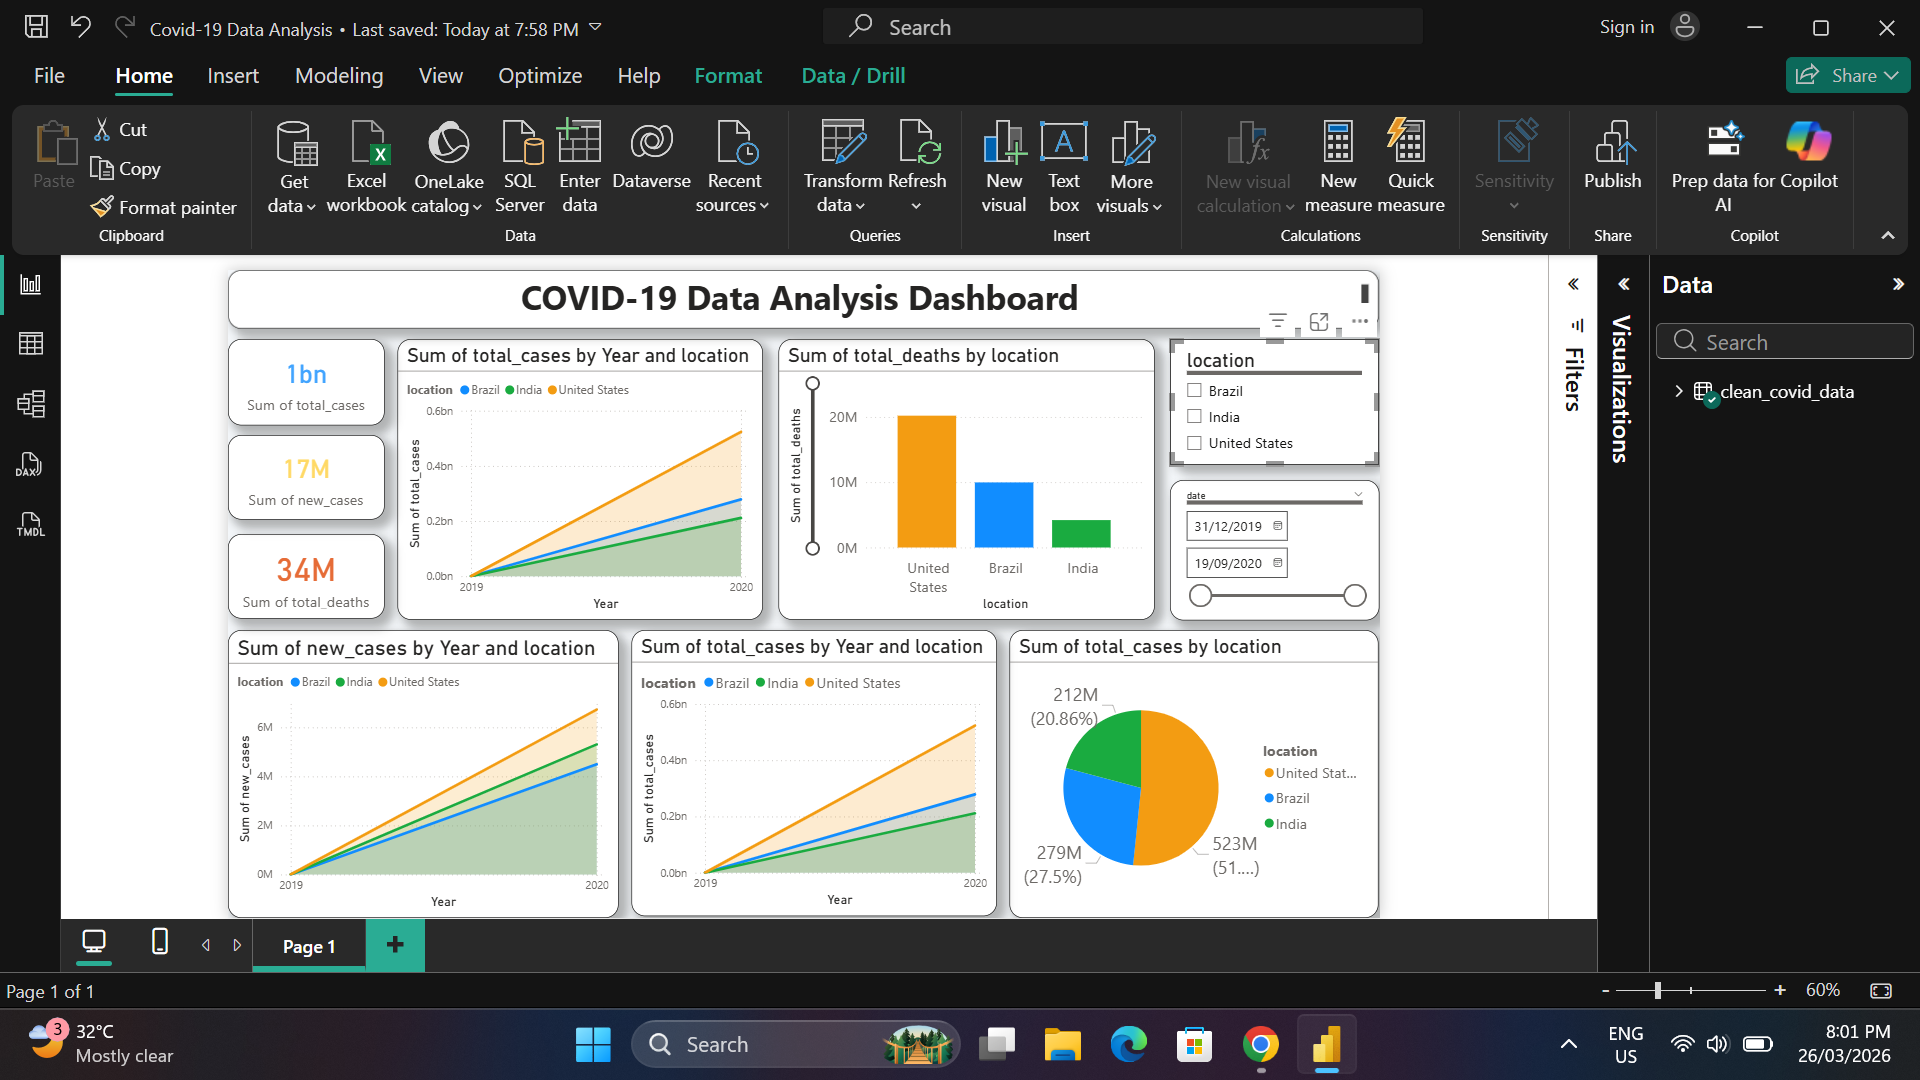

This screenshot's page, from the dashboard's own definition file:
{"tool":"powerbi","page":{"name":"Page 1","canvas":[1280,720],"ordinal":0},"visuals":[{"type":"lineChart","fields":{"Category":["clean_covid_data.date.Variation.Date Hierarchy.Year","clean_covid_data.date.Variation.Date Hierarchy.Quarter","clean_covid_data.date.Variation.Date Hierarchy.Month","clean_covid_data.date.Variation.Date Hierarchy.Day"],"Y":["Sum(clean_covid_data.total_cases)"],"Series":["clean_covid_data.location"]},"box":[188,76,406,312],"z":0},{"type":"lineChart","fields":{"Category":["clean_covid_data.date.Variation.Date Hierarchy.Year","clean_covid_data.date.Variation.Date Hierarchy.Quarter","clean_covid_data.date.Variation.Date Hierarchy.Month","clean_covid_data.date.Variation.Date Hierarchy.Day"],"Y":["Sum(clean_covid_data.new_cases)"],"Series":["clean_covid_data.location"]},"box":[0,400,434,320],"z":1000},{"type":"lineClusteredColumnComboChart","fields":{"Category":["clean_covid_data.location"],"Y":["Sum(clean_covid_data.total_deaths)"]},"box":[612,76,418,312],"z":2000},{"type":"slicer","fields":{"Values":["clean_covid_data.location"]},"box":[1046,76,232,140],"z":3000},{"type":"slicer","fields":{"Values":["clean_covid_data.date"]},"box":[1045.9,232.6,232.6,156.1],"z":4000},{"type":"textbox","box":[0,0,1278.5,65.1],"z":5000},{"type":"pieChart","fields":{"Y":["Sum(clean_covid_data.total_cases)"],"Category":["clean_covid_data.location"]},"box":[868,400,410,320],"z":6000},{"type":"areaChart","fields":{"Category":["clean_covid_data.date.Variation.Date Hierarchy.Year","clean_covid_data.date.Variation.Date Hierarchy.Quarter","clean_covid_data.date.Variation.Date Hierarchy.Month","clean_covid_data.date.Variation.Date Hierarchy.Day"],"Y":["Sum(clean_covid_data.total_cases)"],"Series":["clean_covid_data.location"]},"box":[448,400,406,318],"z":7000},{"type":"card","fields":{"Values":["Sum(clean_covid_data.total_cases)"]},"box":[0,76,174,96],"z":8000},{"type":"card","fields":{"Values":["Sum(clean_covid_data.total_deaths)"]},"box":[0,294,174,94],"z":9000},{"type":"card","fields":{"Values":["Sum(clean_covid_data.new_cases)"]},"box":[0,184,174,94],"z":10000}]}

Visuals, with their boxes on the page's 1280x720 design canvas (x1, y1, x2, y2). These are canvas units, not pixel positions in the 1920x1080 screenshot, which may show the page scaled, cropped or inside an application window:
lineChart - clean_covid_data.date.Variation.Date Hierarchy.Year x clean_covid_data.date.Variation.Date Hierarchy.Quarter: bbox(188, 76, 594, 388)
lineChart - clean_covid_data.date.Variation.Date Hierarchy.Year x clean_covid_data.date.Variation.Date Hierarchy.Quarter: bbox(0, 400, 434, 720)
lineClusteredColumnComboChart - clean_covid_data.location x Sum(clean_covid_data.total_deaths): bbox(612, 76, 1030, 388)
slicer - clean_covid_data.location: bbox(1046, 76, 1278, 216)
slicer - clean_covid_data.date: bbox(1046, 233, 1278, 389)
textbox: bbox(0, 0, 1278, 65)
pieChart - Sum(clean_covid_data.total_cases) x clean_covid_data.location: bbox(868, 400, 1278, 720)
areaChart - clean_covid_data.date.Variation.Date Hierarchy.Year x clean_covid_data.date.Variation.Date Hierarchy.Quarter: bbox(448, 400, 854, 718)
card - Sum(clean_covid_data.total_cases): bbox(0, 76, 174, 172)
card - Sum(clean_covid_data.total_deaths): bbox(0, 294, 174, 388)
card - Sum(clean_covid_data.new_cases): bbox(0, 184, 174, 278)
